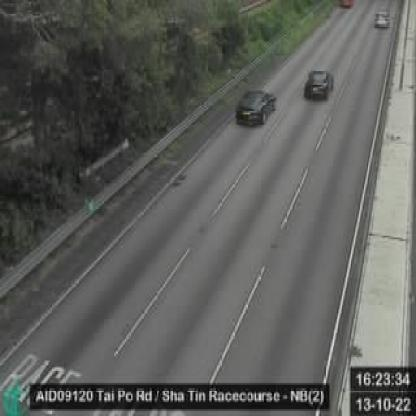Car: (235, 89, 276, 129), (304, 69, 332, 99), (376, 11, 390, 29)
